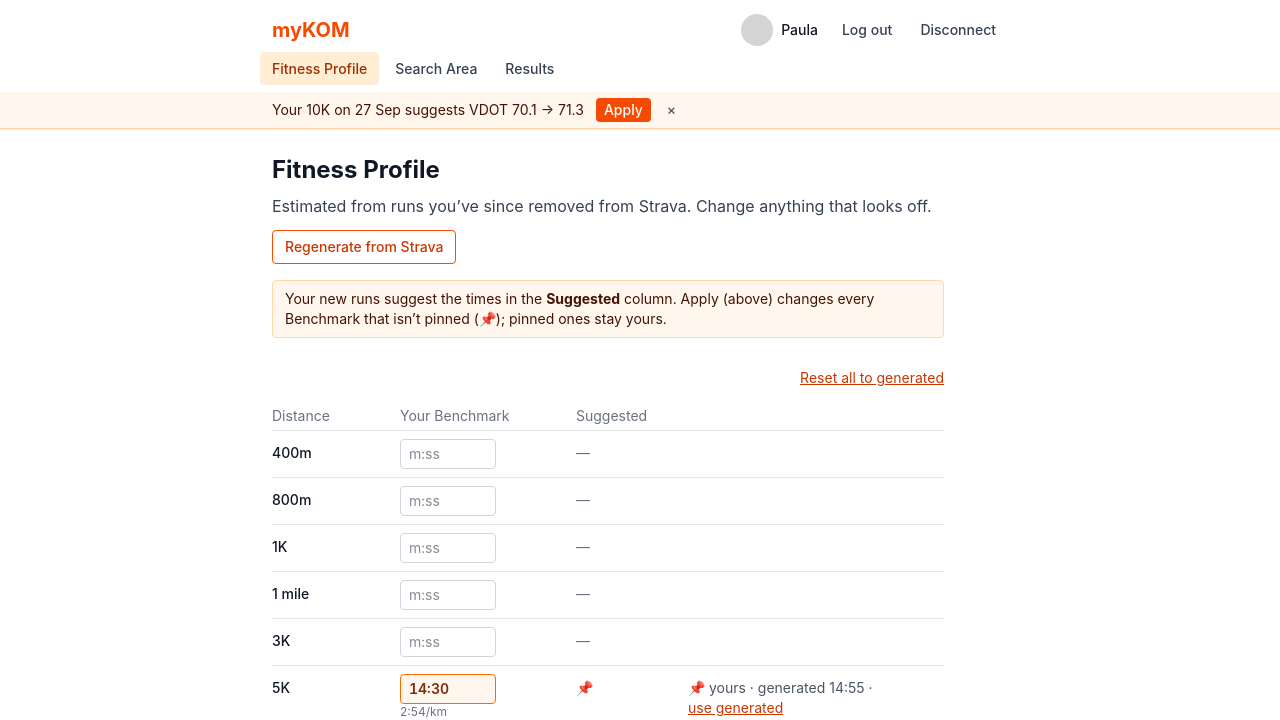
Test: the suggestion banner › goes away when regenerating on the Fitness Profile page clears the suggestion
Click the button "Regenerate from Strava": [364, 247] box [272,230,456,264]
(page scrolled)
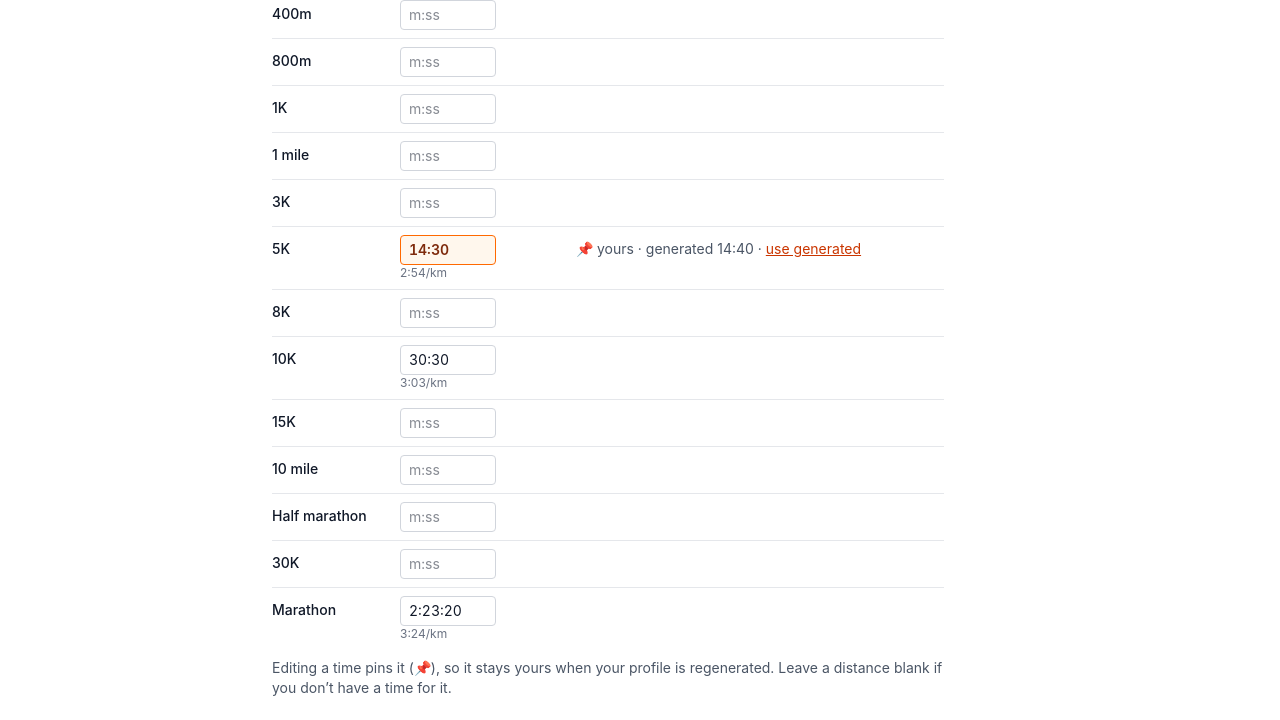
Result: the field showing "30:30" is shown at [400,345,496,375]
